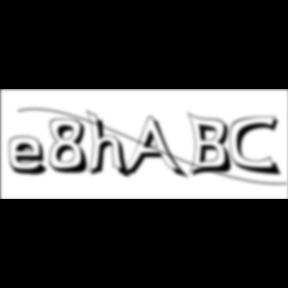8: (50, 117, 94, 176)
A: (121, 116, 190, 182)
B: (188, 111, 238, 179)
C: (230, 115, 284, 178)
e: (9, 135, 55, 178)
h: (86, 108, 134, 182)
